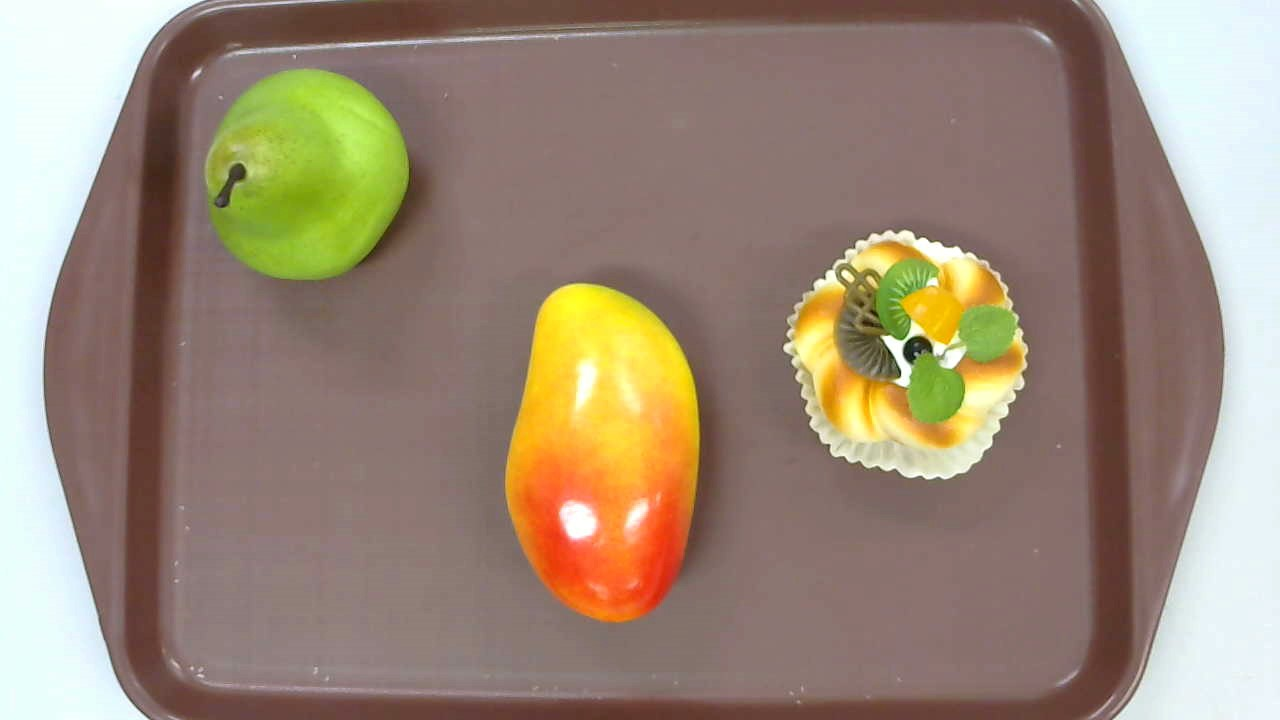fruit tart: (783, 228, 1030, 481)
green pear: (204, 68, 408, 283)
red mango: (506, 283, 700, 620)
